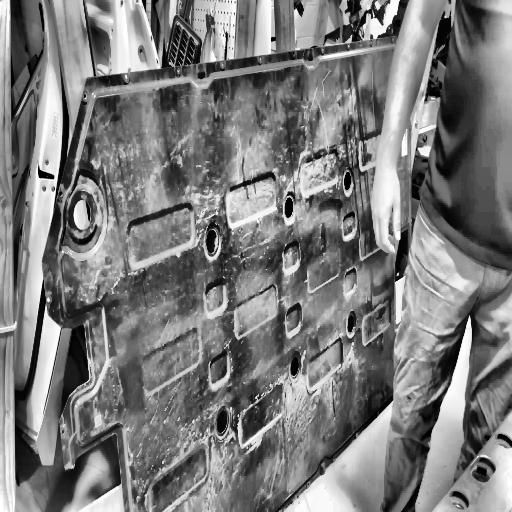b_casing: (39, 35, 412, 512)
